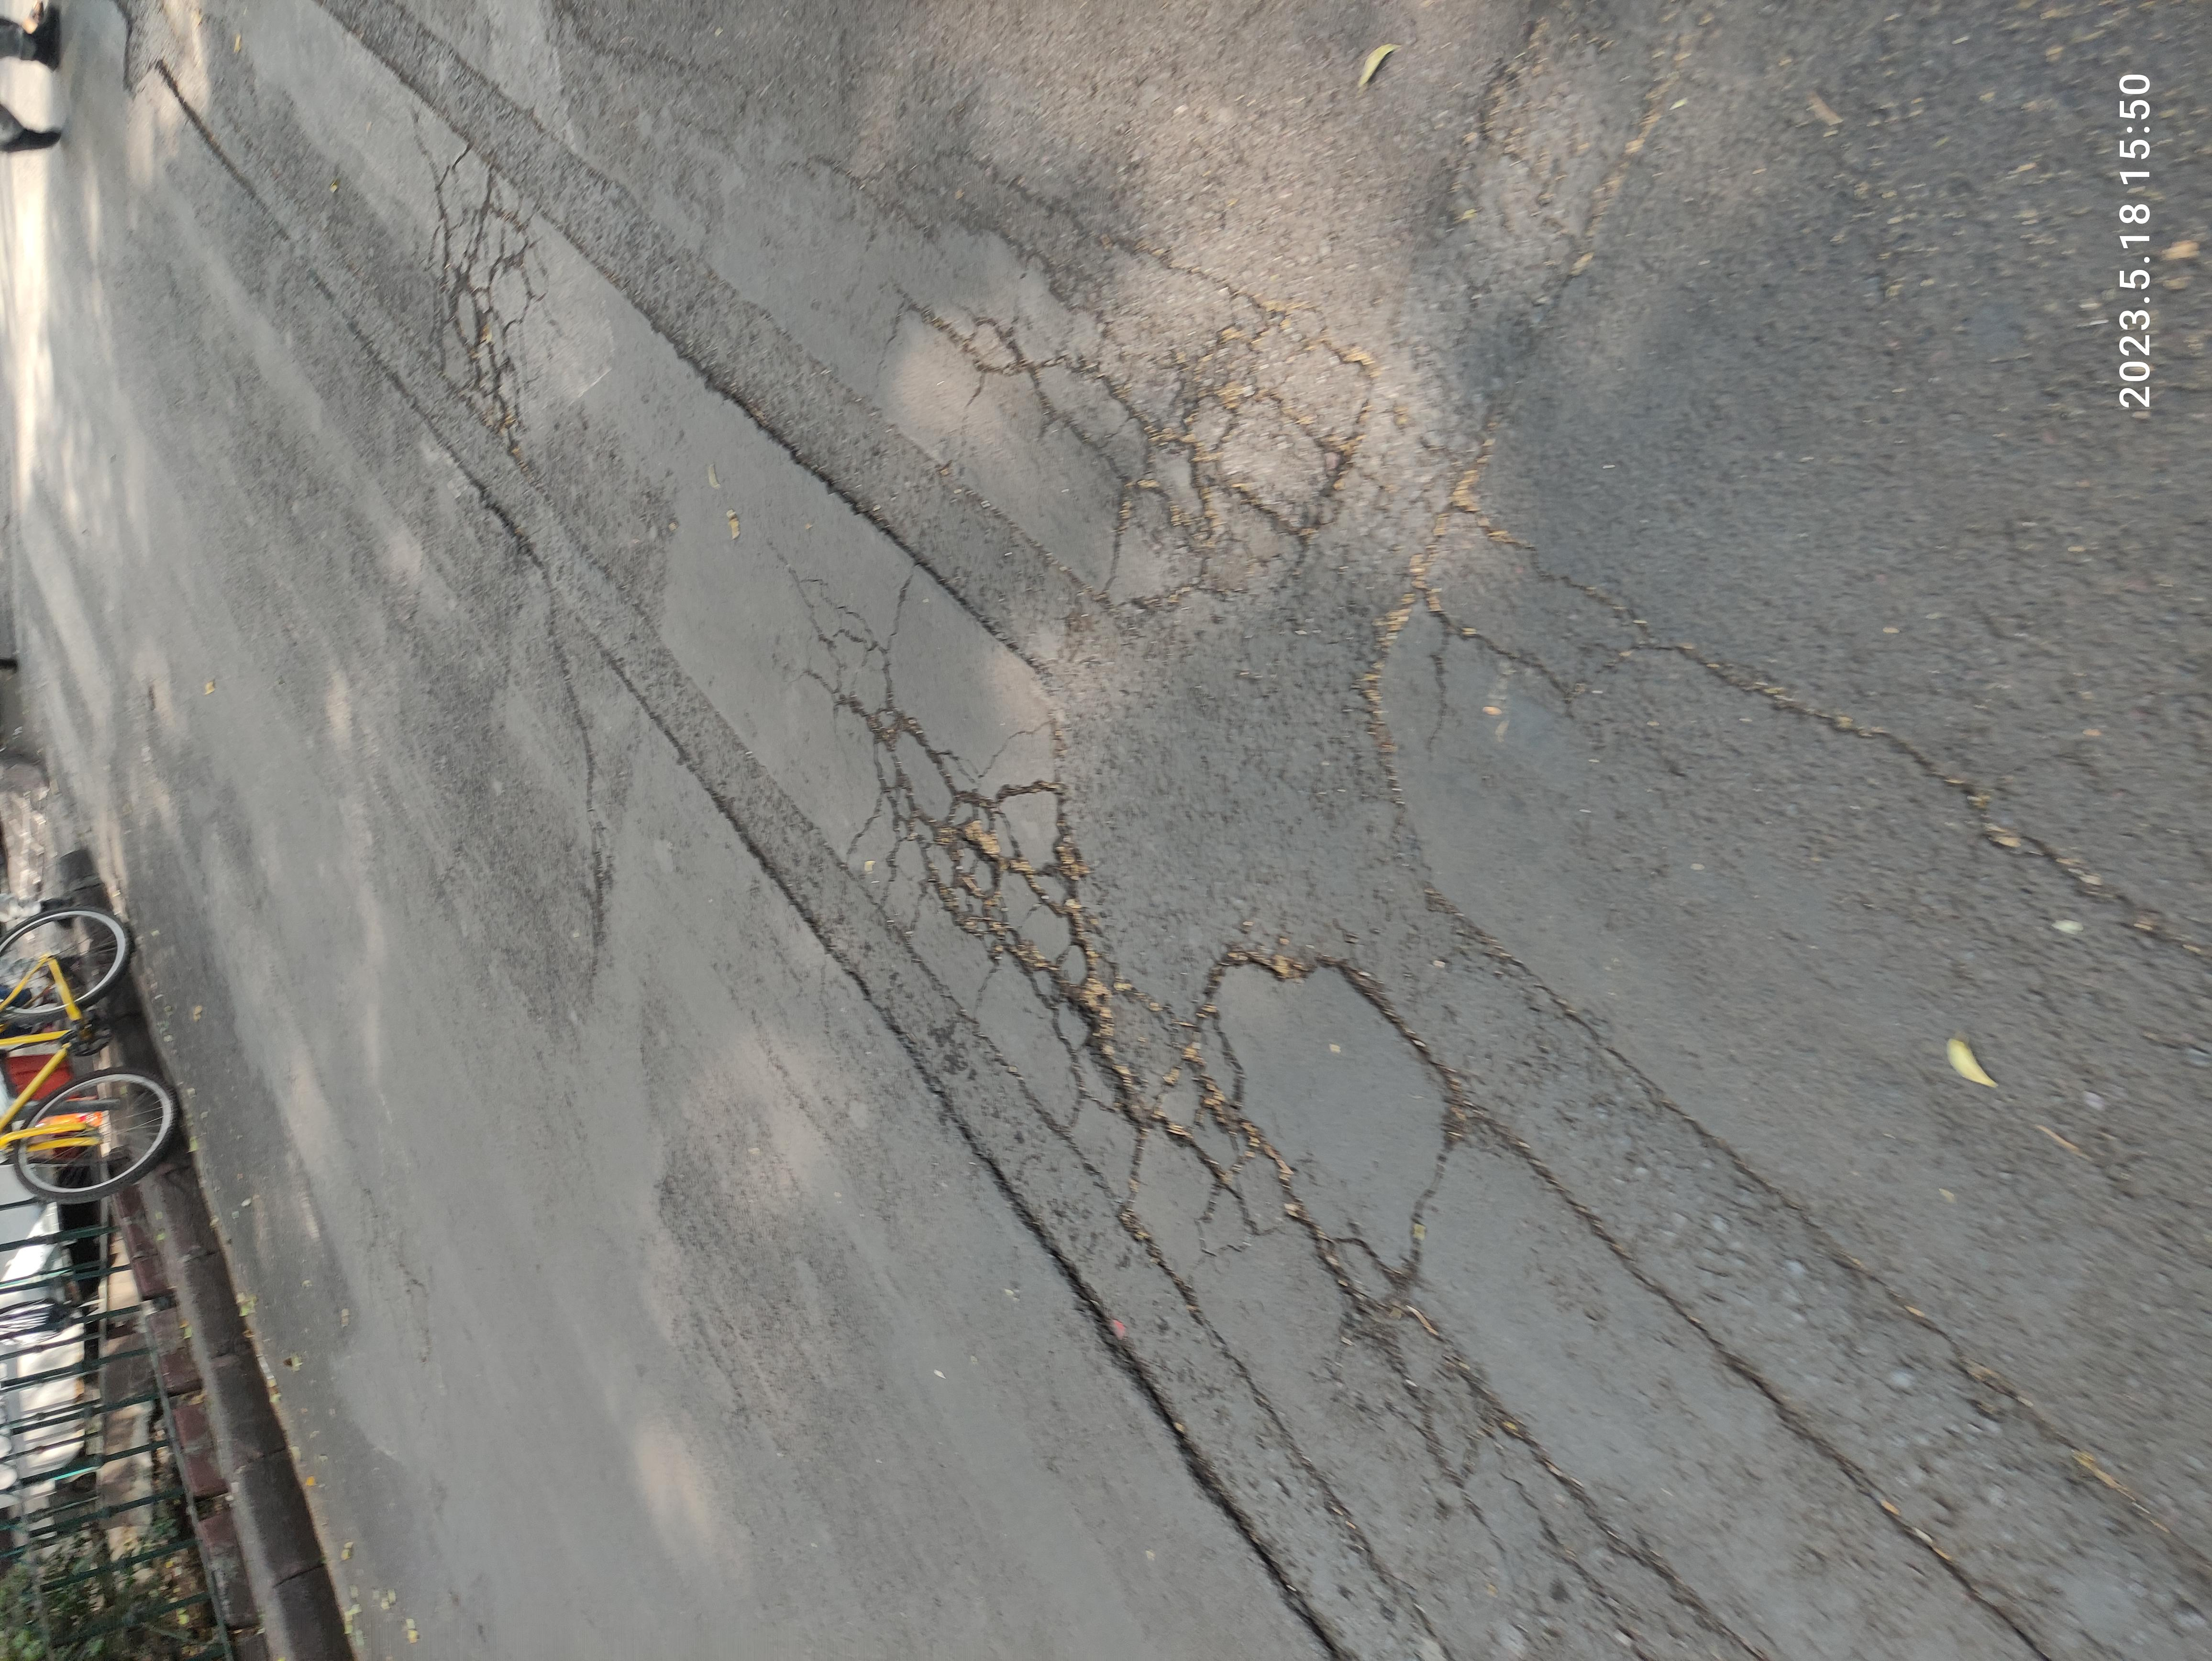alligator-crack: (0, 588, 1481, 1336), (1462, 578, 2090, 1031), (1612, 297, 2048, 422)
crack: (911, 1090, 1584, 1661)
